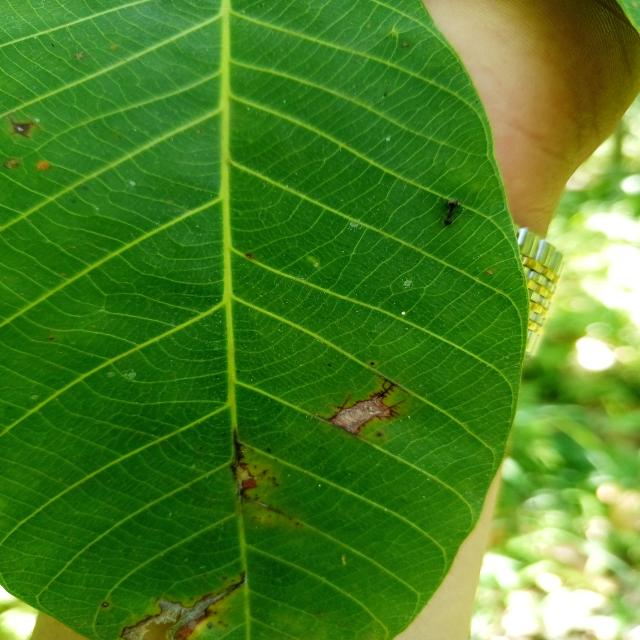Colletotrichum: (102, 601, 110, 608), (370, 362, 374, 365)
Corynespora: (228, 428, 246, 478), (370, 375, 402, 401), (5, 113, 34, 139), (383, 400, 406, 419)
Leaf-Blight: (124, 589, 232, 640), (330, 397, 391, 433)
